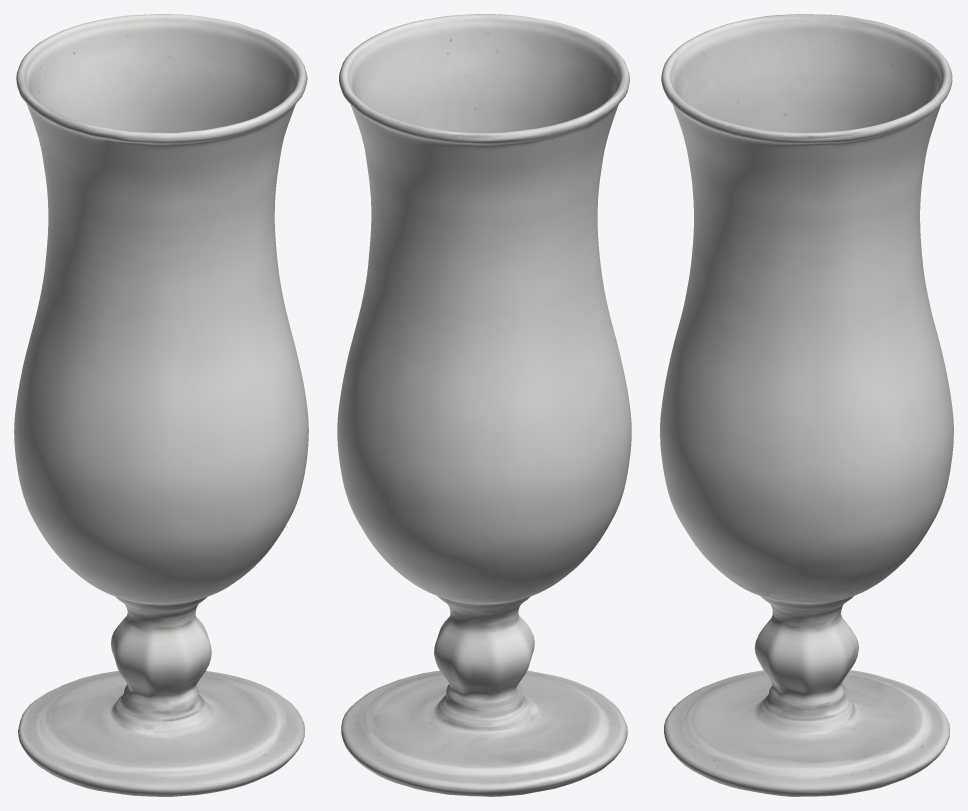
Rendered from model_hurricane_glass.glb.
3 renders of one model, left to right at view 1: azimuth 30°, elevation 25°; view 2: azimuth 150°, elevation 25°; view 3: azimuth 270°, elevation 25°, orthographic.
Visible parts, largest first — view 1: tripo_node_0d43e1b9-3339-428f-8864-16c9e666c561; view 2: tripo_node_0d43e1b9-3339-428f-8864-16c9e666c561; view 3: tripo_node_0d43e1b9-3339-428f-8864-16c9e666c561.
Boxes of the visible parts, left/top/right/bottom form: tripo_node_0d43e1b9-3339-428f-8864-16c9e666c561: left=14, top=14, right=308, bottom=796; tripo_node_0d43e1b9-3339-428f-8864-16c9e666c561: left=337, top=14, right=631, bottom=796; tripo_node_0d43e1b9-3339-428f-8864-16c9e666c561: left=660, top=14, right=953, bottom=796.
Bounding box in the file's own units: 0.3997 × 0.9997 × 0.3998.
1 material, 1 textured.
